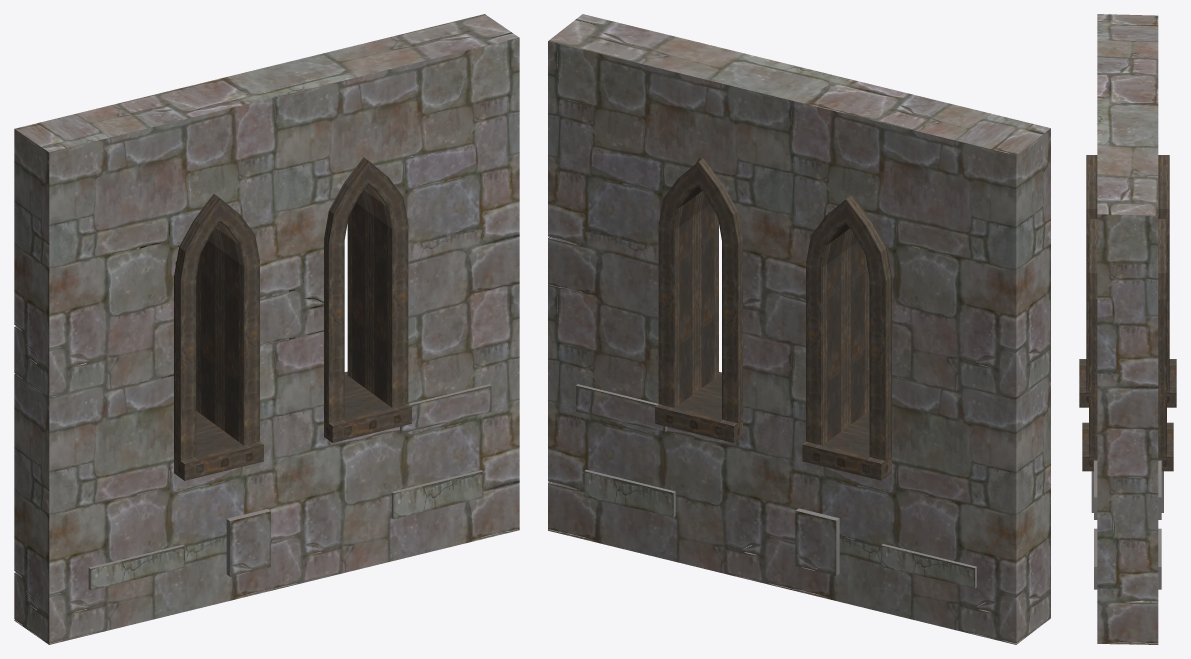
3 views of the same model, side by side, from view 1: azimuth 30°, elevation 25°; view 2: azimuth 150°, elevation 25°; view 3: azimuth 270°, elevation 25° (orthographic). The views are drawn at different scales.
Parts seen in each view (by area): view 1: SM_BB_T3_Extended_Wall_Windowframe_Large_04_LOD0; view 2: SM_BB_T3_Extended_Wall_Windowframe_Large_04_LOD0; view 3: SM_BB_T3_Extended_Wall_Windowframe_Large_04_LOD0.
Part boxes in pixels (x1=…): SM_BB_T3_Extended_Wall_Windowframe_Large_04_LOD0: x1=14, y1=14, x2=519, y2=644; SM_BB_T3_Extended_Wall_Windowframe_Large_04_LOD0: x1=548, y1=14, x2=1050, y2=644; SM_BB_T3_Extended_Wall_Windowframe_Large_04_LOD0: x1=1079, y1=14, x2=1176, y2=644.
Bounding box in the file's own units: 3 × 3.01 × 0.6166.
Materials: 2 (2 with a texture image).
